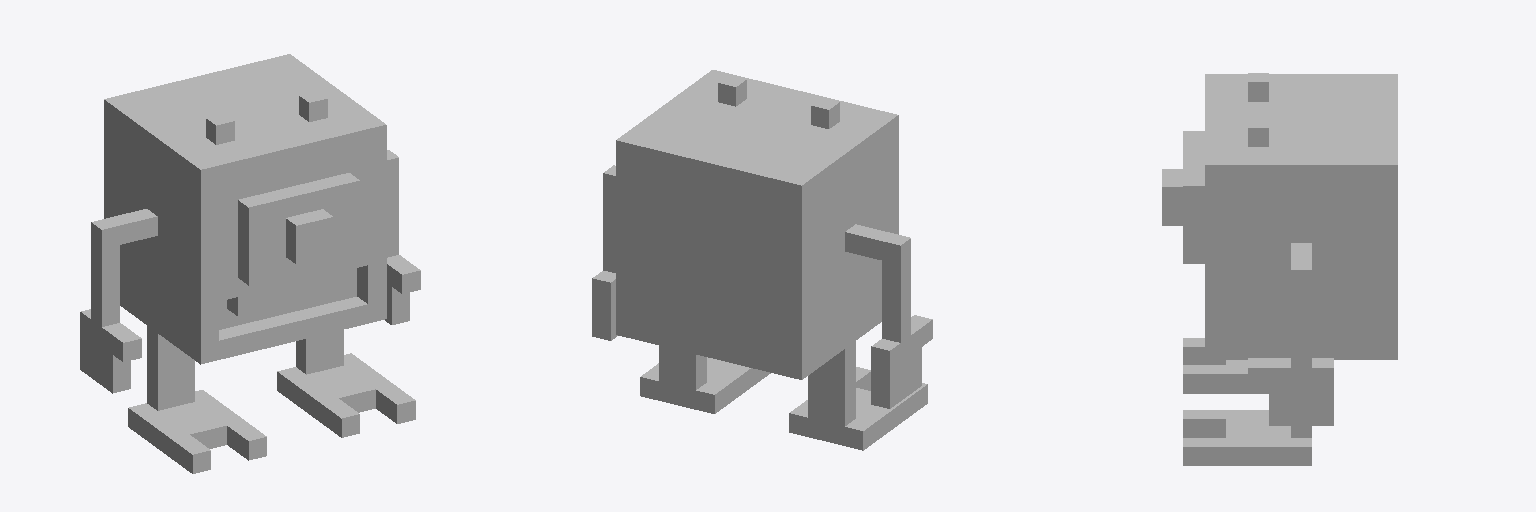
The model's file is mike.obj.
3 renders of one model, left to right at view 1: azimuth 30°, elevation 25°; view 2: azimuth 150°, elevation 25°; view 3: azimuth 270°, elevation 25°, orthographic.
Bounding box in the file's own units: 16 × 16 × 11.